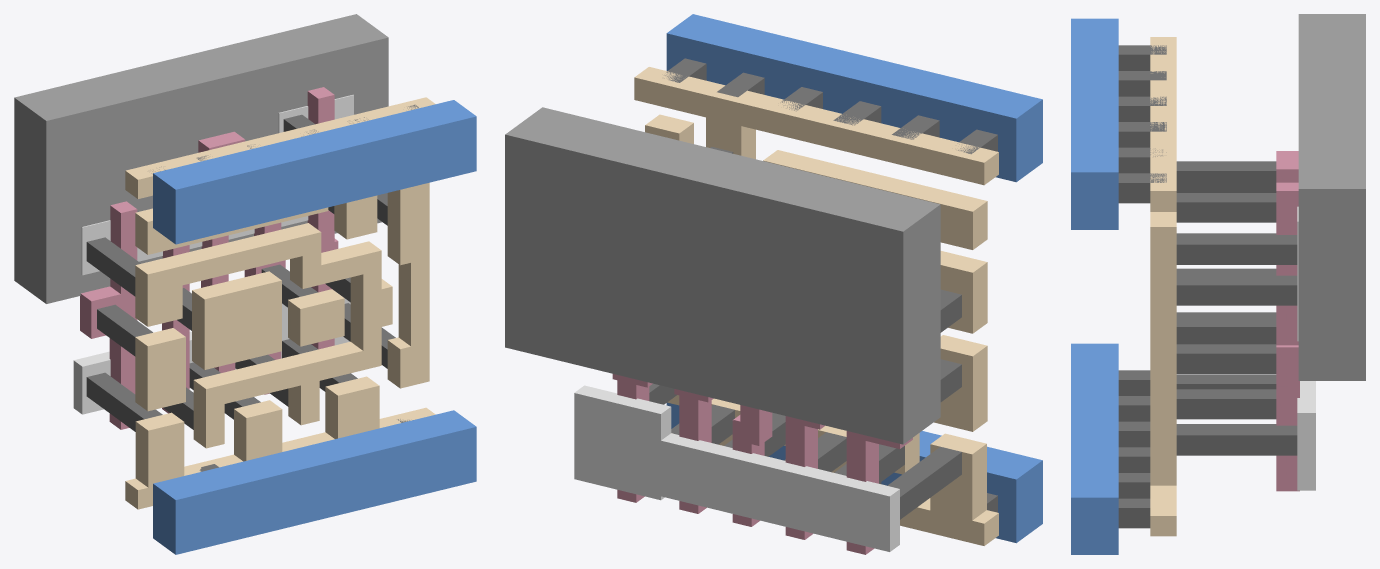
File: sky130_fd_sc_hd__or4_1.gds.gltf
The picture shows the model from 3 angles, left to right: view 1: azimuth 30°, elevation 25°; view 2: azimuth 150°, elevation 25°; view 3: azimuth 270°, elevation 25°; orthographic projection. The views are drawn at different scales.
Visible parts, largest first — view 1: sky130_fd_sc_hd__or4_1_li1, sky130_fd_sc_hd__or4_1_met1, sky130_fd_sc_hd__or4_1_nwell, sky130_fd_sc_hd__or4_1_licon, sky130_fd_sc_hd__or4_1_poly, sky130_fd_sc_hd__or4_1_diff; view 2: sky130_fd_sc_hd__or4_1_nwell, sky130_fd_sc_hd__or4_1_li1, sky130_fd_sc_hd__or4_1_met1, sky130_fd_sc_hd__or4_1_diff, sky130_fd_sc_hd__or4_1_poly, sky130_fd_sc_hd__or4_1_licon, sky130_fd_sc_hd__or4_1_mcon; view 3: sky130_fd_sc_hd__or4_1_licon, sky130_fd_sc_hd__or4_1_nwell, sky130_fd_sc_hd__or4_1_met1, sky130_fd_sc_hd__or4_1_li1, sky130_fd_sc_hd__or4_1_mcon, sky130_fd_sc_hd__or4_1_poly, sky130_fd_sc_hd__or4_1_diff.
Boxes of the visible parts, box(x1,y1,x2,y2) form: sky130_fd_sc_hd__or4_1_li1: box(125, 97, 435, 509); sky130_fd_sc_hd__or4_1_met1: box(153, 100, 476, 554); sky130_fd_sc_hd__or4_1_nwell: box(14, 14, 388, 303); sky130_fd_sc_hd__or4_1_licon: box(86, 114, 395, 431); sky130_fd_sc_hd__or4_1_poly: box(80, 87, 338, 429); sky130_fd_sc_hd__or4_1_diff: box(73, 94, 353, 414); sky130_fd_sc_hd__or4_1_nwell: box(505, 107, 940, 444); sky130_fd_sc_hd__or4_1_li1: box(634, 67, 998, 545); sky130_fd_sc_hd__or4_1_met1: box(666, 14, 1042, 543); sky130_fd_sc_hd__or4_1_diff: box(574, 385, 899, 551); sky130_fd_sc_hd__or4_1_poly: box(612, 374, 912, 554); sky130_fd_sc_hd__or4_1_licon: box(649, 147, 961, 519); sky130_fd_sc_hd__or4_1_mcon: box(664, 58, 997, 512); sky130_fd_sc_hd__or4_1_licon: box(1176, 161, 1297, 455); sky130_fd_sc_hd__or4_1_nwell: box(1298, 14, 1365, 380); sky130_fd_sc_hd__or4_1_met1: box(1071, 18, 1118, 554); sky130_fd_sc_hd__or4_1_li1: box(1150, 37, 1176, 536); sky130_fd_sc_hd__or4_1_mcon: box(1118, 45, 1166, 528); sky130_fd_sc_hd__or4_1_poly: box(1276, 151, 1299, 491); sky130_fd_sc_hd__or4_1_diff: box(1297, 206, 1315, 490).
Bounding box in the file's own units: 3.14 × 3.2 × 2.24.
